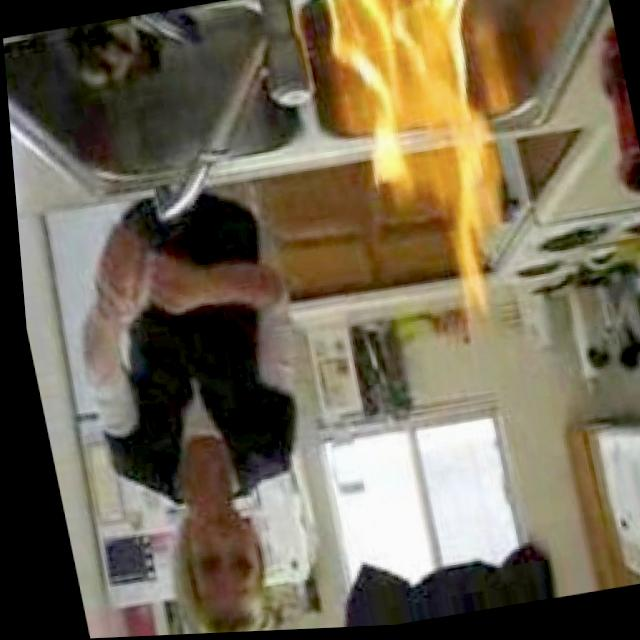Fire: (313, 0, 526, 333)
